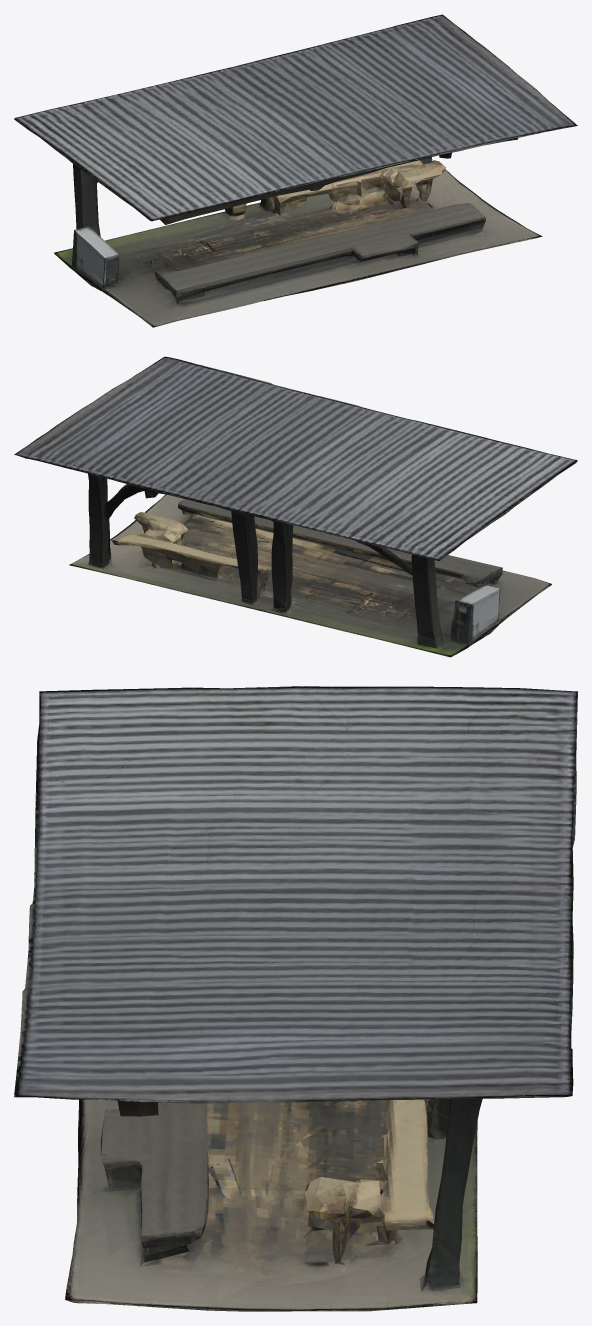
Rendered from Stands.glb.
The picture shows the model from 3 angles, top to bottom: view 1: azimuth 30°, elevation 25°; view 2: azimuth 150°, elevation 25°; view 3: azimuth 270°, elevation 25°; orthographic projection. The views are drawn at different scales.
Parts seen in each view (by area): view 1: world.002; view 2: world.002; view 3: world.002.
Boxes of the visible parts, bbox=[...] form: world.002: bbox=[14, 14, 577, 327]; world.002: bbox=[14, 356, 577, 657]; world.002: bbox=[14, 686, 577, 1311].
Size of the model in its own units: 0.5449 by 0.159 by 0.3183.
Materials: 1 (1 with a texture image).
